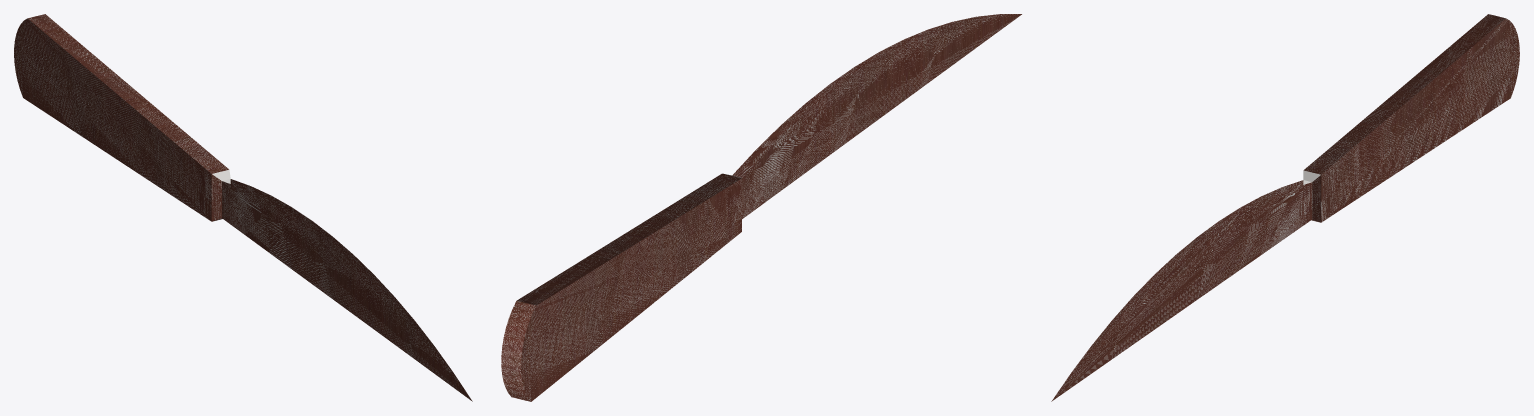
Rendered from model_align.obj.
3 views of the same model, side by side, from view 1: azimuth 30°, elevation 25°; view 2: azimuth 150°, elevation 25°; view 3: azimuth 330°, elevation 25° (orthographic). The views are drawn at different scales.
Parts seen in each view (by area): view 1: mesh1_mesh1-geometry; view 2: mesh1_mesh1-geometry; view 3: mesh1_mesh1-geometry.
Boxes of the visible parts, bbox=[...] form: mesh1_mesh1-geometry: bbox=[14, 14, 472, 401]; mesh1_mesh1-geometry: bbox=[501, 14, 1021, 401]; mesh1_mesh1-geometry: bbox=[1051, 14, 1519, 401].
Size of the model in its own units: 0.00491 by 0.0219 by 0.2176.
